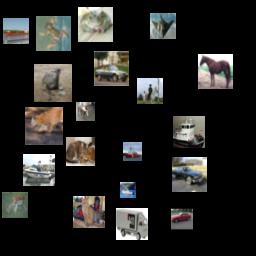airplane: (150, 13, 176, 39)
automobile: (94, 51, 129, 86), (172, 157, 207, 192), (171, 208, 193, 230)
bird: (34, 64, 72, 102)
cat: (25, 107, 63, 145), (73, 196, 105, 228), (66, 137, 95, 166)
deer: (2, 192, 28, 218)
dog: (76, 102, 95, 121)
frog: (78, 7, 113, 42), (36, 16, 71, 51)
ship: (173, 116, 205, 148), (23, 154, 55, 186), (3, 18, 29, 44), (123, 142, 142, 161), (120, 182, 136, 198)
truck: (116, 208, 148, 240)
